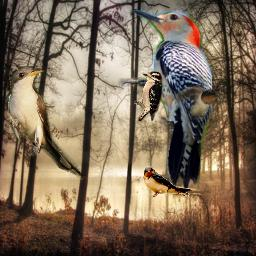Cuckoo: (5, 66, 86, 182)
Swallow: (142, 166, 198, 200), (175, 84, 219, 120)
Woodpecker: (118, 10, 212, 192), (133, 70, 163, 121)
